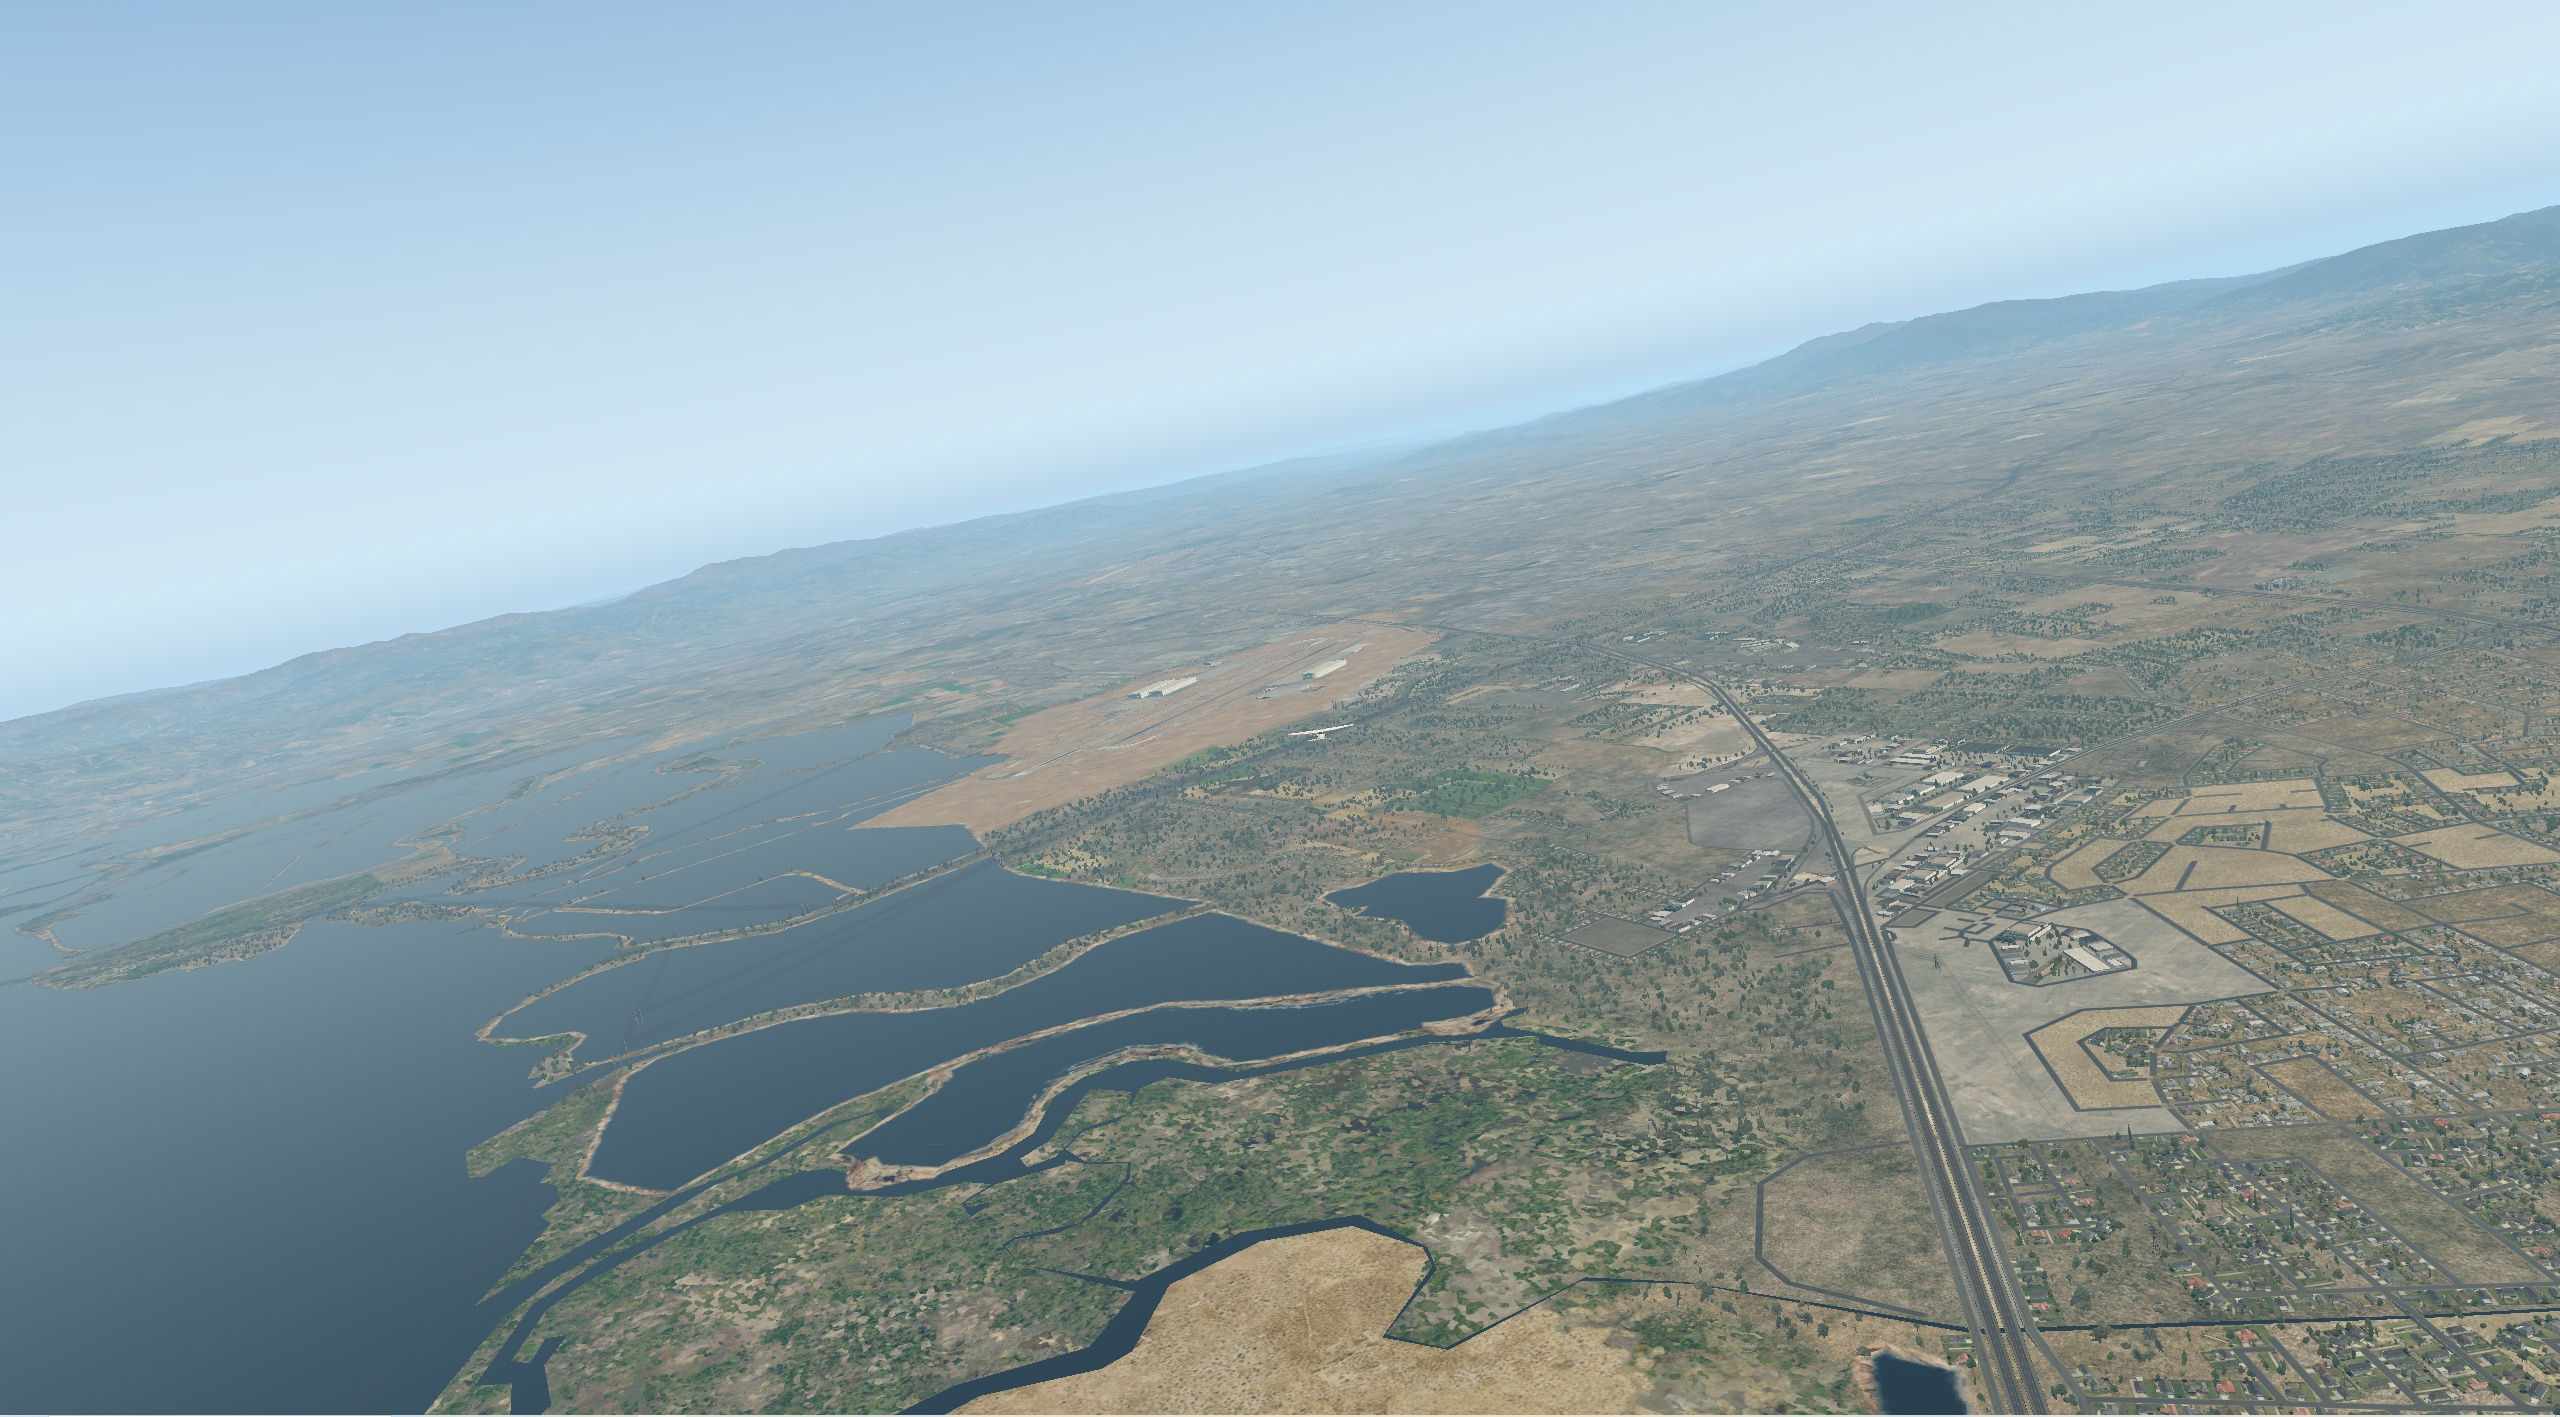aircraft: (1281, 719, 1361, 749)
